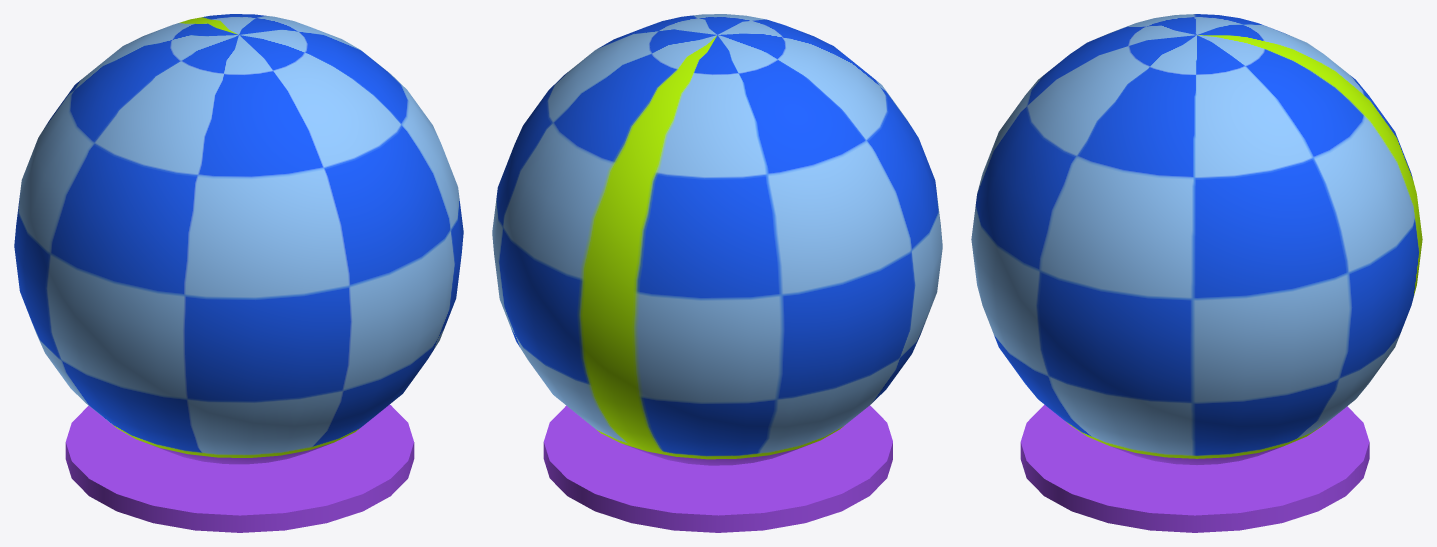
File: LightTable01_3.FBX
3 renders of one model, left to right at view 1: azimuth 30°, elevation 25°; view 2: azimuth 150°, elevation 25°; view 3: azimuth 270°, elevation 25°, orthographic.
Parts seen in each view (by area): view 1: LightTable01_3; view 2: LightTable01_3; view 3: LightTable01_3.
Part boxes in pixels (x1,y1,x2,y2): LightTable01_3: (14,14,463,532); LightTable01_3: (492,14,942,532); LightTable01_3: (971,14,1422,532).
Size of the model in its own units: 18.8 by 19.5 by 18.8.
